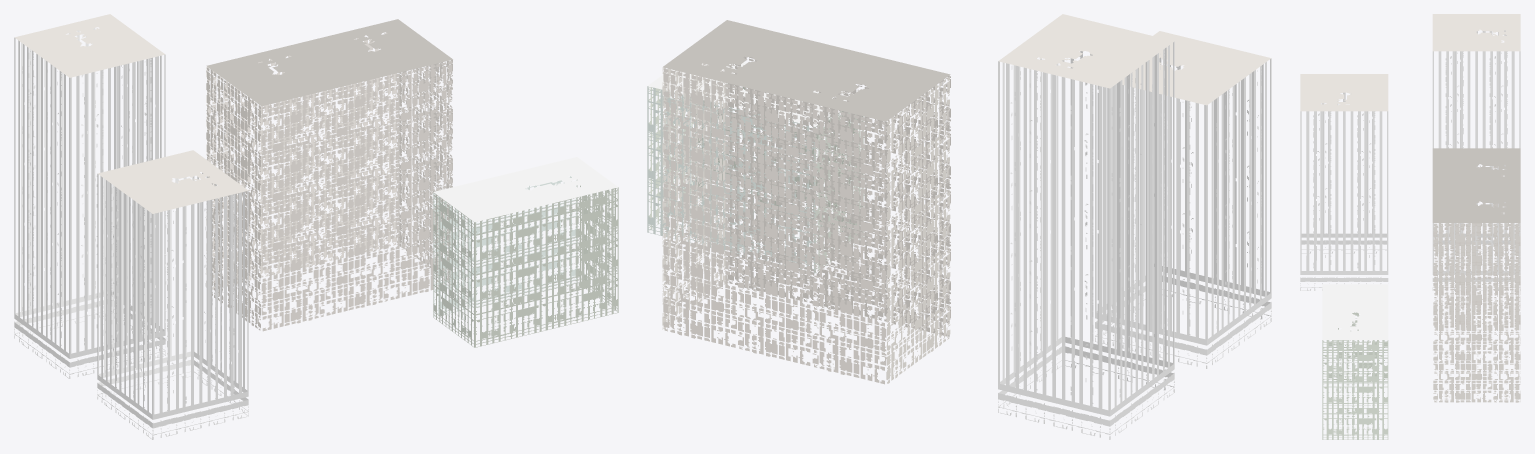
File: uvmd-0117.glb
3 views of the same model, side by side, from view 1: azimuth 30°, elevation 25°; view 2: azimuth 150°, elevation 25°; view 3: azimuth 270°, elevation 25° (orthographic). The views are drawn at different scales.
Parts seen in each view (by area): view 1: uvmd-0117; view 2: uvmd-0117; view 3: uvmd-0117.
Part boxes in pixels (x1,y1,x2,y2): uvmd-0117: (14,14,618,439); uvmd-0117: (647,14,1271,439); uvmd-0117: (1300,14,1520,439).
Bounding box in the file's own units: 1000 × 600 × 500.
Materials: 5 (5 with a texture image).
